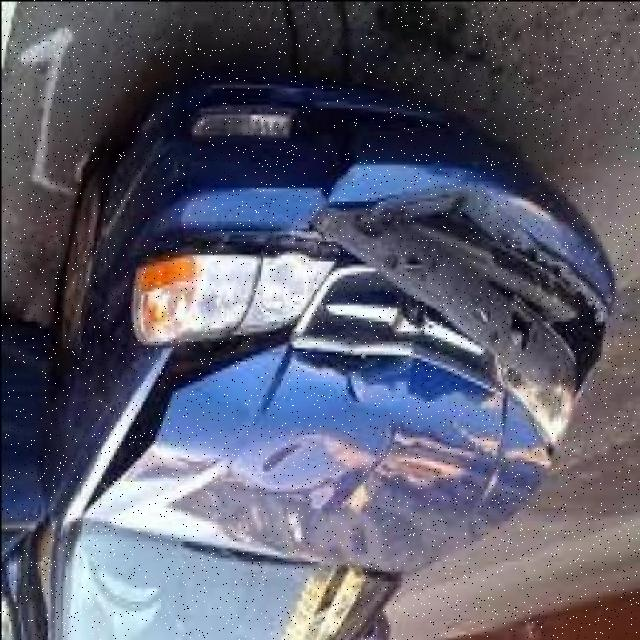damage: (70, 172, 615, 515)
